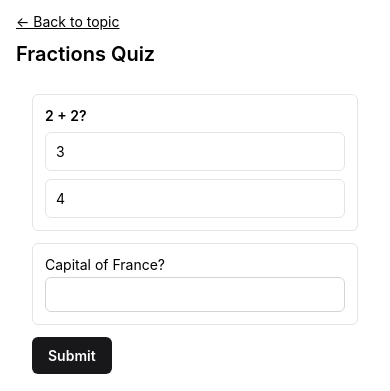
Test: renders questions, submits responses, and shows the score
Expected: the text "Fractions Quiz" is shown, [16,42,155,66]
Click the text "4" at (60, 198), box [56,190,65,207]
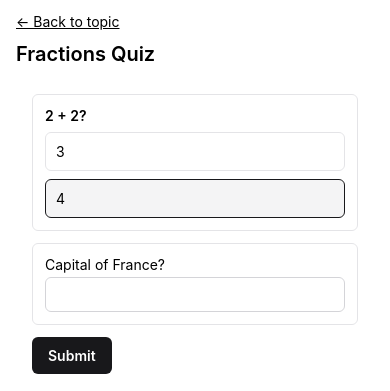
Type "Paris" into the field at (195, 294), box [45,277,345,312]
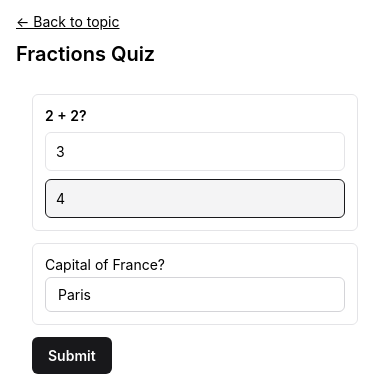
Click the text "Submit" at (72, 356), box [48,347,96,364]
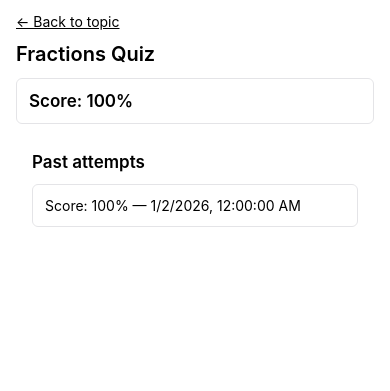
Expected: the text "Score: 100%" is shown, [29,91,133,111]
